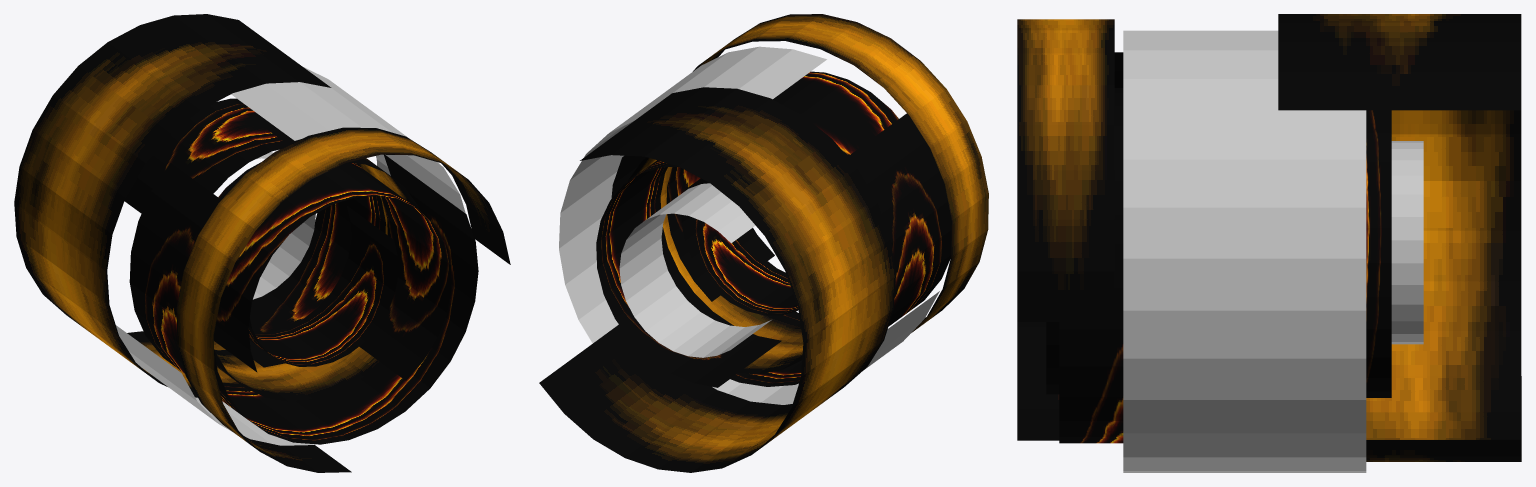
The model's file is tx_knight_dantichaofeng_fire.obj.
3 views of the same model, side by side, from view 1: azimuth 30°, elevation 25°; view 2: azimuth 150°, elevation 25°; view 3: azimuth 270°, elevation 25° (orthographic). The views are drawn at different scales.
Visible parts, largest first — view 1: Plane14, Plane12, Plane17, Plane09, Plane04, Plane11, Plane08, Plane13, Plane02; view 2: Plane14, Plane17, Plane11, Plane12, Plane02, Plane04, Plane09, Plane08, Plane13; view 3: Plane11, Plane14, Plane17, Plane12, Plane04, Plane02, Plane09.
Boxes of the visible parts, x1,y1,x2,y2 form: Plane14: [14, 14, 331, 397]; Plane12: [129, 154, 478, 444]; Plane17: [176, 127, 510, 472]; Plane09: [213, 162, 451, 380]; Plane04: [124, 98, 385, 367]; Plane11: [116, 67, 465, 445]; Plane08: [248, 205, 398, 366]; Plane13: [214, 112, 419, 401]; Plane02: [253, 151, 315, 299]; Plane14: [539, 87, 895, 472]; Plane17: [693, 14, 988, 332]; Plane11: [559, 46, 939, 404]; Plane12: [611, 113, 951, 386]; Plane02: [619, 183, 771, 357]; Plane04: [596, 160, 781, 387]; Plane09: [666, 71, 898, 301]; Plane08: [681, 178, 798, 315]; Plane13: [628, 86, 803, 374]; Plane11: [1123, 30, 1366, 472]; Plane14: [1278, 14, 1521, 461]; Plane17: [1017, 19, 1114, 440]; Plane12: [1059, 52, 1123, 443]; Plane04: [1366, 110, 1391, 397]; Plane02: [1391, 141, 1423, 344]; Plane09: [1046, 88, 1123, 394].
Bounding box in the file's own units: 82.05 × 81.01 × 89.95.
